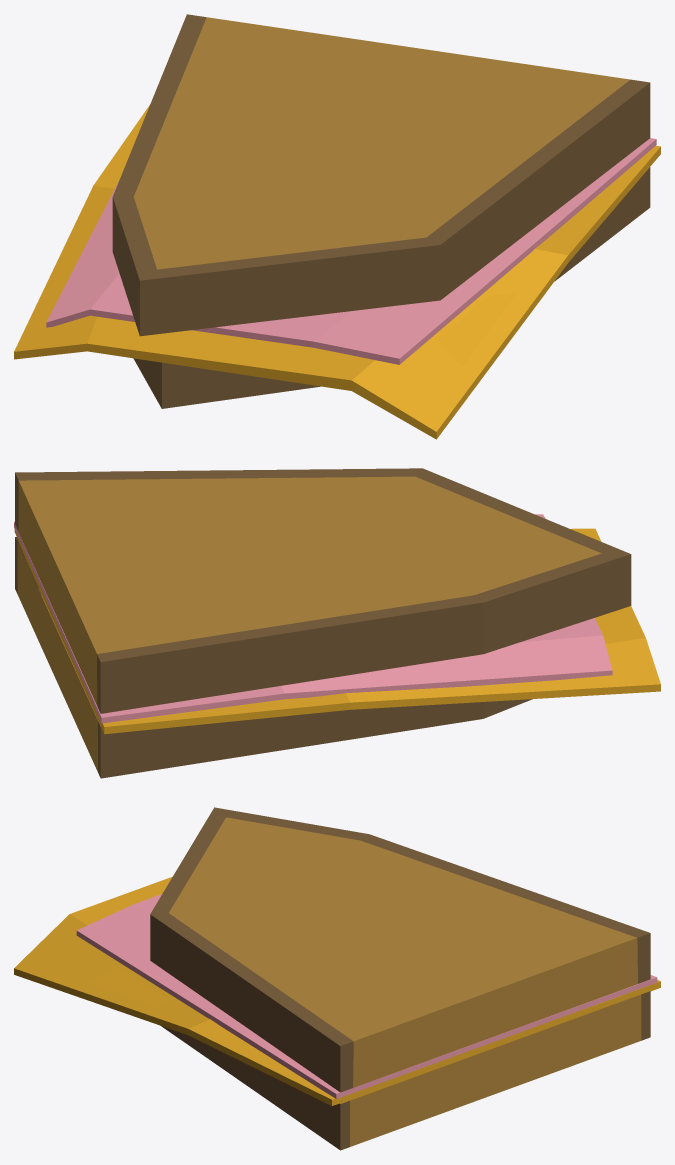
Rendered from C_Grilled_Cheese.fbx.
3 renders of one model, top to bottom at view 1: azimuth 30°, elevation 25°; view 2: azimuth 150°, elevation 25°; view 3: azimuth 270°, elevation 25°, orthographic. The views are drawn at different scales.
Visible parts, largest first — view 1: C_Grilled_Cheese; view 2: C_Grilled_Cheese; view 3: C_Grilled_Cheese.
Part boxes in pixels (box(x1,y1,x2,y2)): C_Grilled_Cheese: box(14, 14, 660, 439); C_Grilled_Cheese: box(14, 468, 660, 778); C_Grilled_Cheese: box(14, 807, 660, 1150).
Bounding box in the file's own units: 127 × 127 × 22.59.
